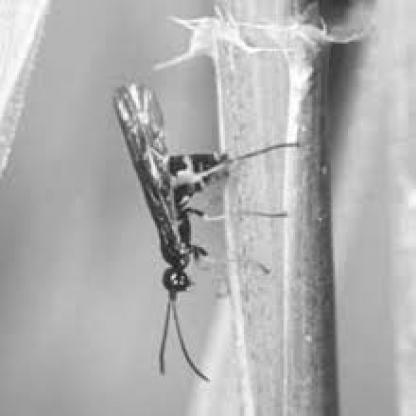sawfly: (111, 76, 304, 379)
